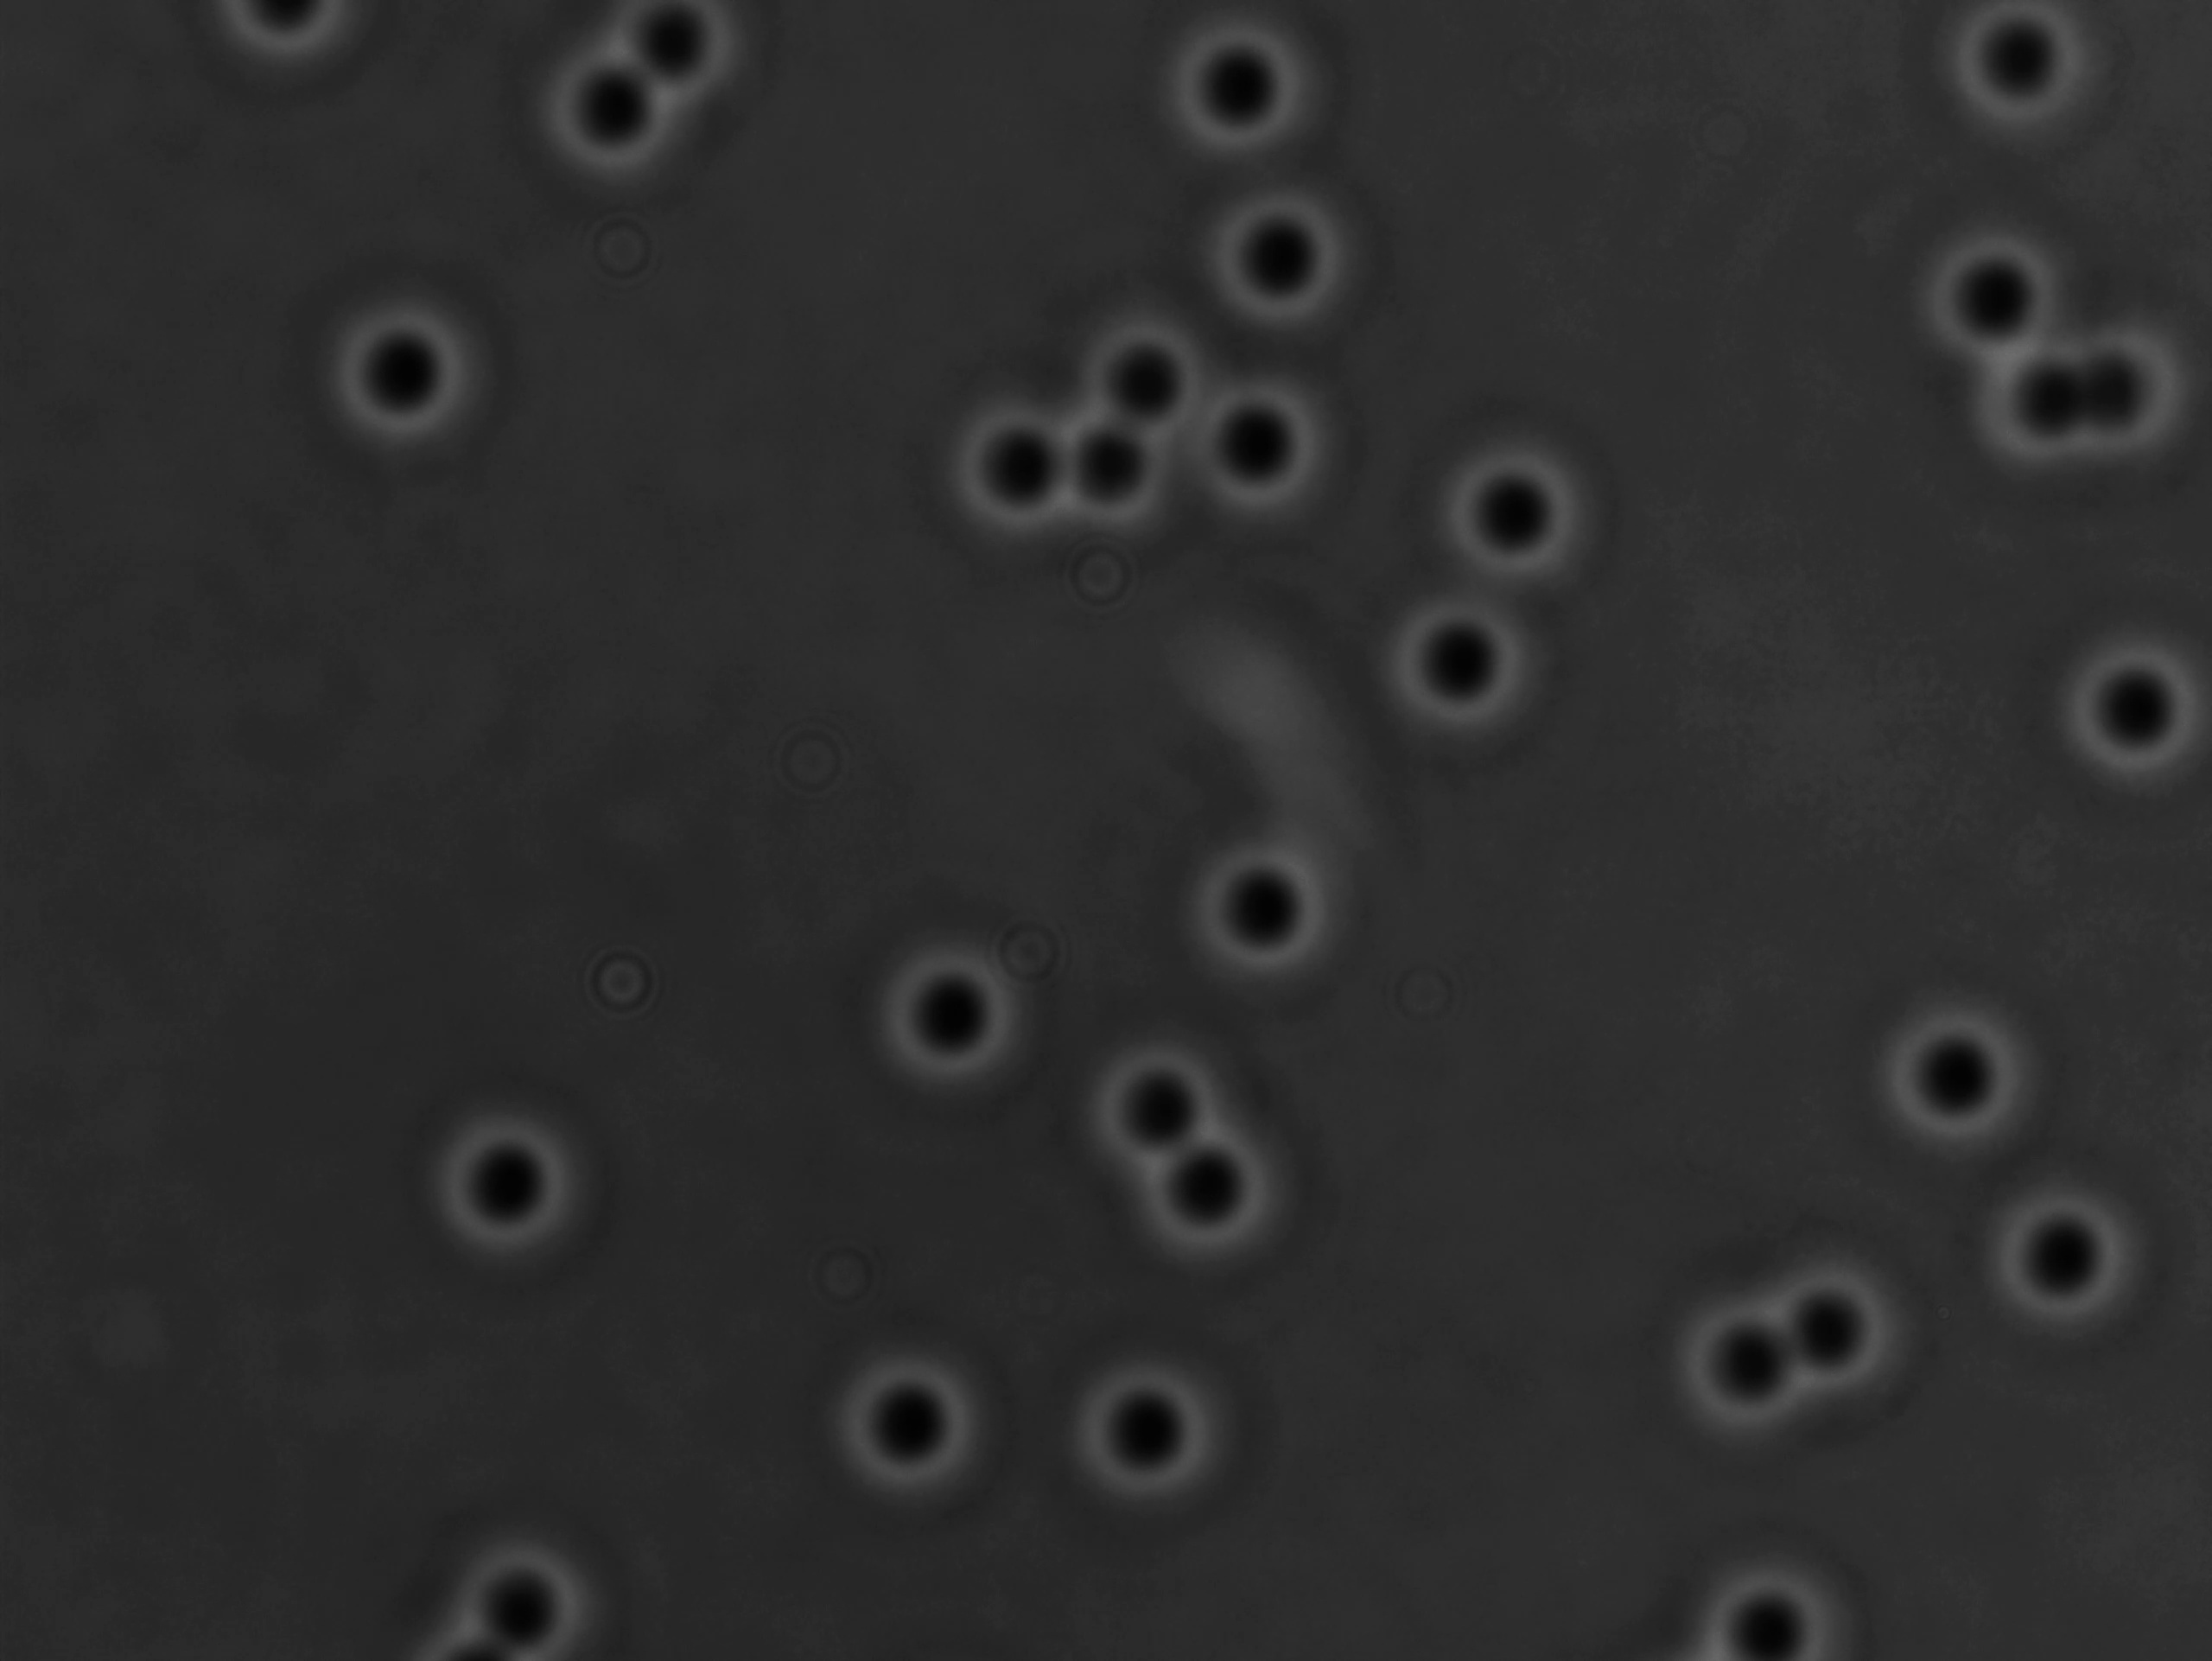depth:-80: (1971, 1165, 2181, 1368), (1739, 1218, 1943, 1418), (1633, 1256, 1835, 1457), (1903, 213, 2111, 394), (811, 1328, 1010, 1516), (857, 926, 1062, 1108), (1048, 1335, 1240, 1527), (399, 1097, 600, 1277), (1181, 167, 1385, 338), (1439, 410, 1636, 583), (1867, 993, 2064, 1165), (1369, 578, 1561, 754), (1115, 1110, 1310, 1282), (323, 276, 504, 461), (1172, 354, 1355, 534), (2034, 630, 2212, 811), (1069, 1026, 1254, 1200), (940, 370, 1111, 553), (1181, 836, 1348, 988)
